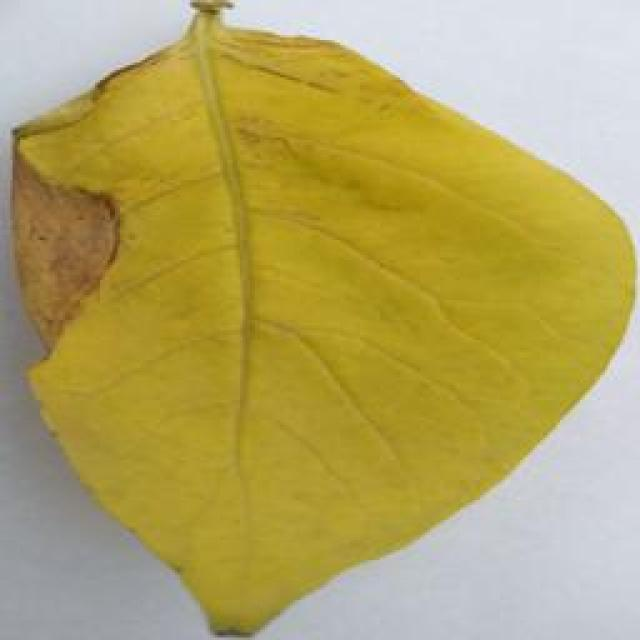Potato_Late_Blight: (13, 3, 624, 633)
